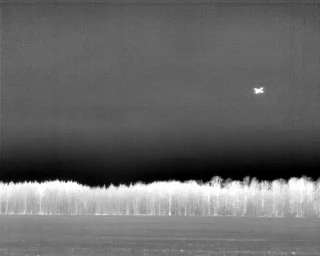DRONE: (250, 82, 269, 99)
